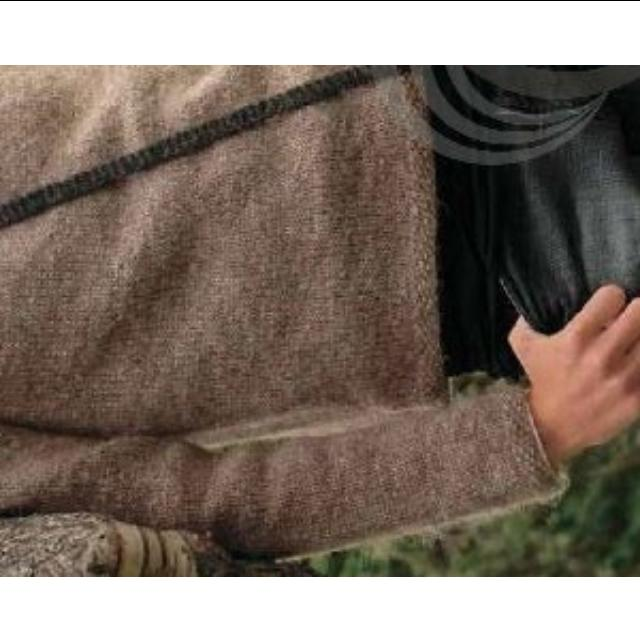wool: (0, 64, 460, 520)
